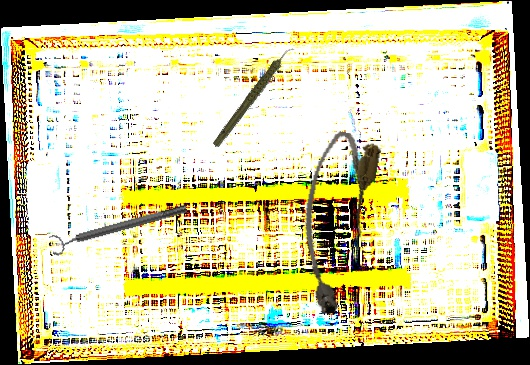Cannula: (284, 127, 384, 319)
Fixation Ring: (48, 198, 190, 257)
Handpiece: (196, 45, 313, 149)
